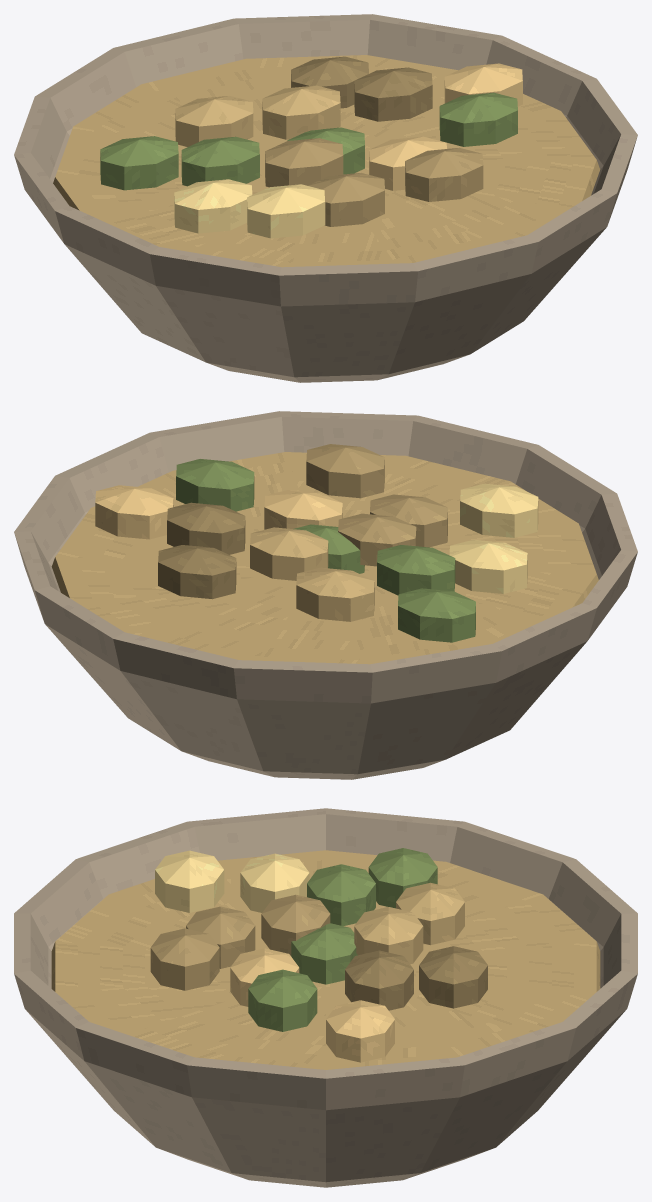
Rendered from soup_dumplings.glb.
3 views of the same model, one above another, from view 1: azimuth 30°, elevation 25°; view 2: azimuth 150°, elevation 25°; view 3: azimuth 270°, elevation 25° (orthographic). The views are drawn at different scales.
Visible parts, largest first — view 1: block_earthenware bowl, block_pieces in cooked dish (×15), block_meal in bowl; view 2: block_earthenware bowl, block_pieces in cooked dish (×15), block_meal in bowl; view 3: block_earthenware bowl, block_meal in bowl, block_pieces in cooked dish (×15).
Part boxes in pixels (box(x1,y1,x2,y2)): block_earthenware bowl: box(14, 14, 637, 382); block_pieces in cooked dish (×15): box(100, 56, 522, 238); block_meal in bowl: box(53, 55, 600, 267); block_earthenware bowl: box(14, 411, 637, 779); block_pieces in cooked dish (×15): box(95, 444, 538, 642); block_meal in bowl: box(51, 452, 598, 664); block_earthenware bowl: box(14, 808, 637, 1187); block_meal in bowl: box(51, 850, 600, 1069); block_pieces in cooked dish (×15): box(150, 848, 487, 1062).
Size of the model in its own units: 0.1516 by 0.0528 by 0.1478.
Materials: 1 (1 with a texture image).
